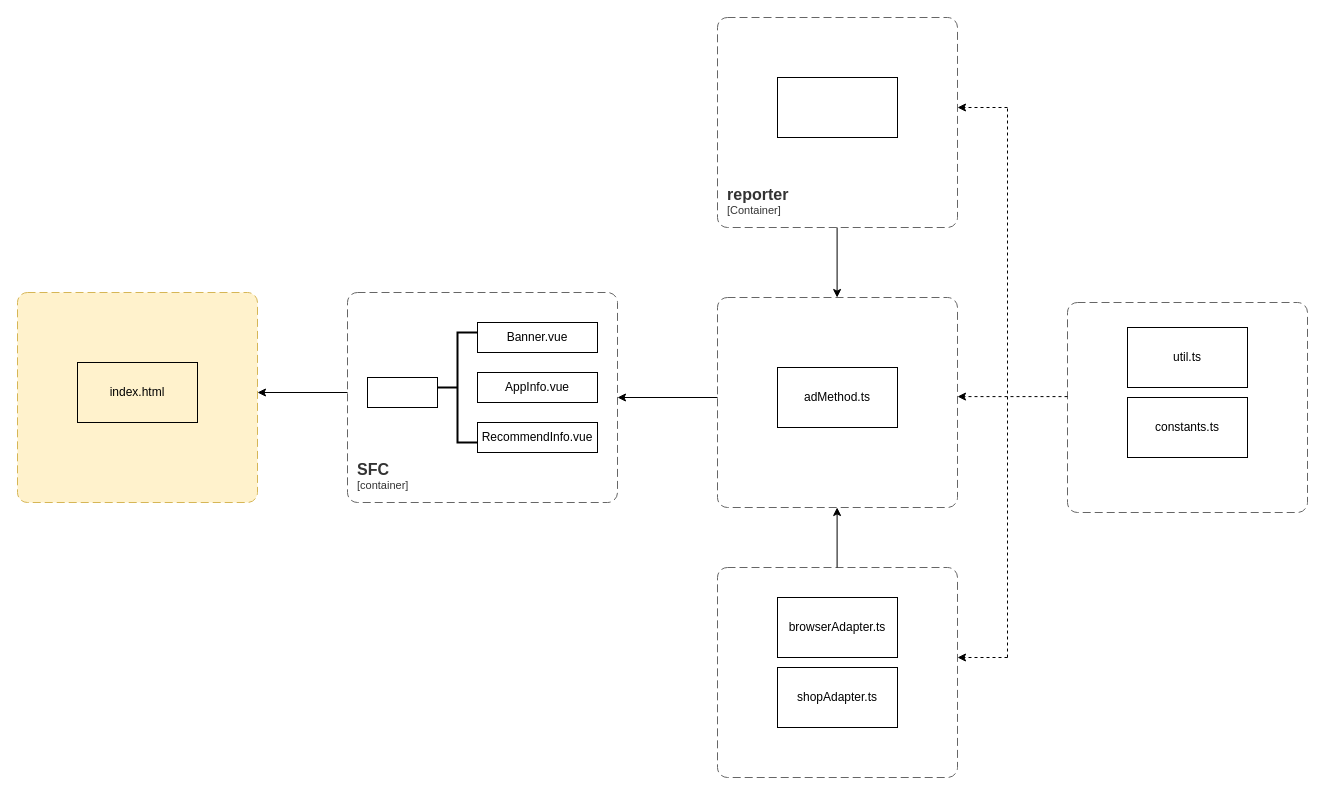
The diagram is 1325 pixels wide and 795 high, and some of its shapes have lost their labels. The shapes that lost their labels are listed below. From the top down, each one's box as (x1, y1, x2, y2) in pixels, then its label:
(776, 76, 898, 138): baseReporter.ts
(16, 292, 258, 502): entry [multiple entries]
(366, 376, 438, 408): App.vue
(716, 296, 958, 508): adMethod [Container]
(1066, 302, 1308, 512): common [Container]
(716, 566, 958, 778): nativeAdapter [Container]
